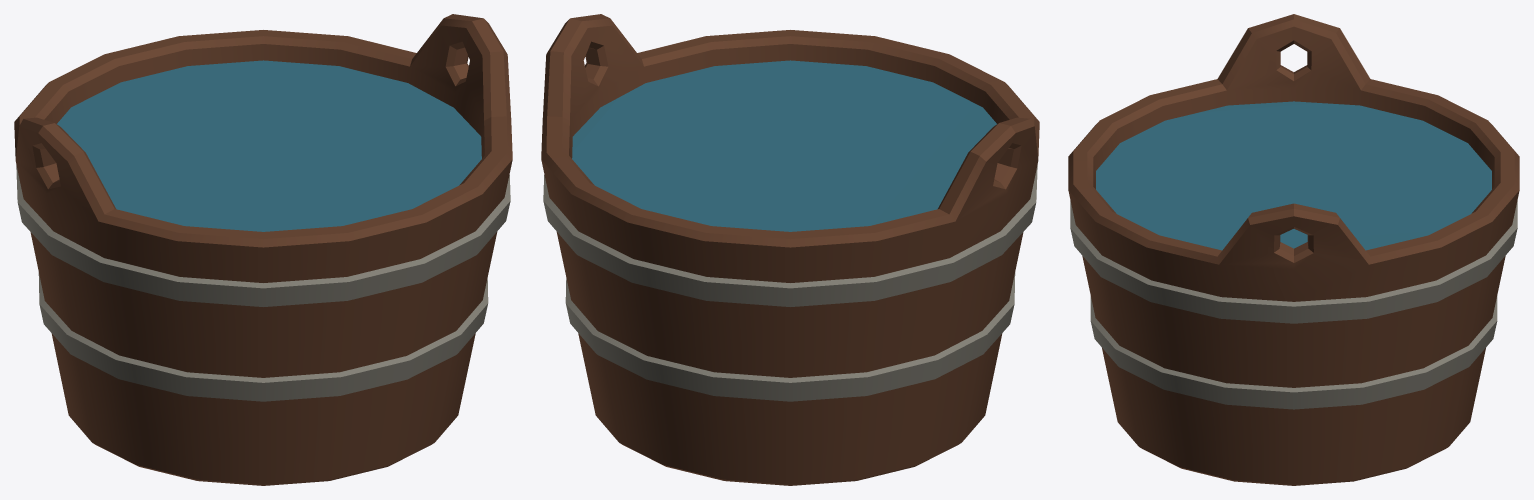
Rendered from itch_assetquest_pond_wooden_tub.glb.
3 renders of one model, left to right at view 1: azimuth 30°, elevation 25°; view 2: azimuth 150°, elevation 25°; view 3: azimuth 270°, elevation 25°, orthographic. The views are drawn at different scales.
Visible parts, largest first — view 1: Wooden_Tub, Wooden_Tub_Water; view 2: Wooden_Tub, Wooden_Tub_Water; view 3: Wooden_Tub, Wooden_Tub_Water.
Boxes of the visible parts, x1,y1,x2,y2 form: Wooden_Tub: [14, 14, 512, 485]; Wooden_Tub_Water: [57, 60, 481, 231]; Wooden_Tub: [541, 14, 1039, 485]; Wooden_Tub_Water: [572, 60, 996, 231]; Wooden_Tub: [1068, 14, 1519, 485]; Wooden_Tub_Water: [1096, 101, 1491, 250].
Size of the model in its own units: 0.96 by 0.6762 by 0.9201.
